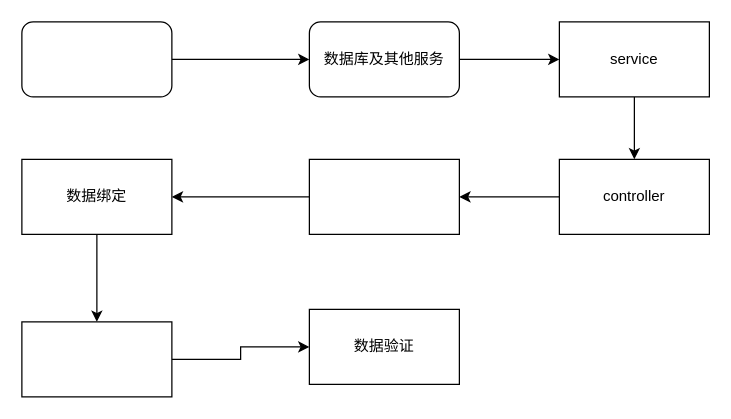
This 731x419 diagram has some shape labels left out. The box of each missing label's shape, as (x1, y1, x2, y2) in pixels:
数据签名验证中间件: (21, 321, 172, 397)
方法解析: (308, 158, 459, 234)
模块初始化: (21, 21, 172, 97)
